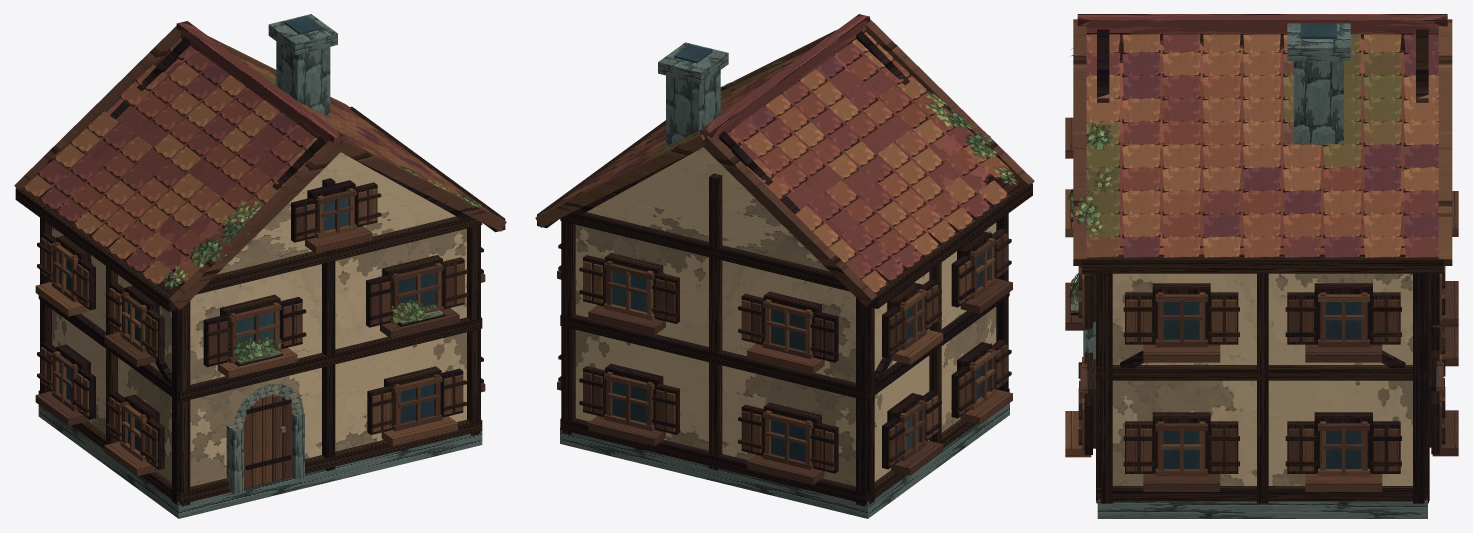
Rendered from cottage_wide.glb.
3 renders of one model, left to right at view 1: azimuth 30°, elevation 25°; view 2: azimuth 150°, elevation 25°; view 3: azimuth 270°, elevation 25°, orthographic. The views are drawn at different scales.
Parts seen in each view (by area): view 1: cottage_wide; view 2: cottage_wide; view 3: cottage_wide.
Boxes of the visible parts, box(x1,y1,x2,y2) form: cottage_wide: box(14, 14, 506, 518); cottage_wide: box(535, 14, 1034, 518); cottage_wide: box(1065, 14, 1458, 518).
Size of the model in its own units: 4.57 by 4.67 by 3.8.
6 materials, 6 textured.
